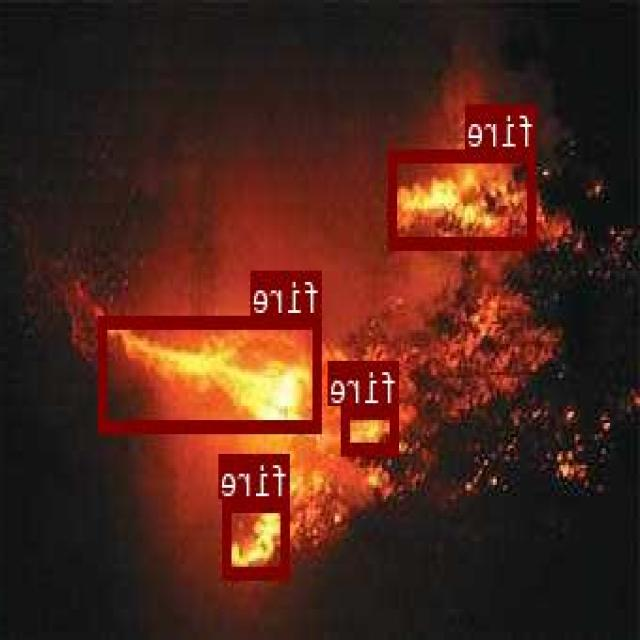fire: (100, 314, 322, 431), (390, 147, 538, 246), (225, 498, 291, 578), (343, 404, 401, 452)
